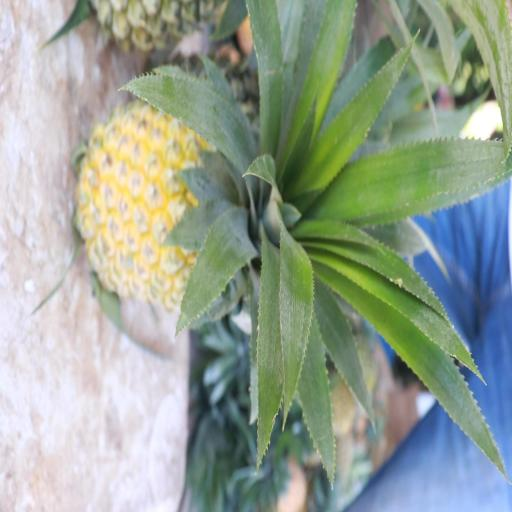Pineapple - v8 v1: (74, 110, 304, 310)
